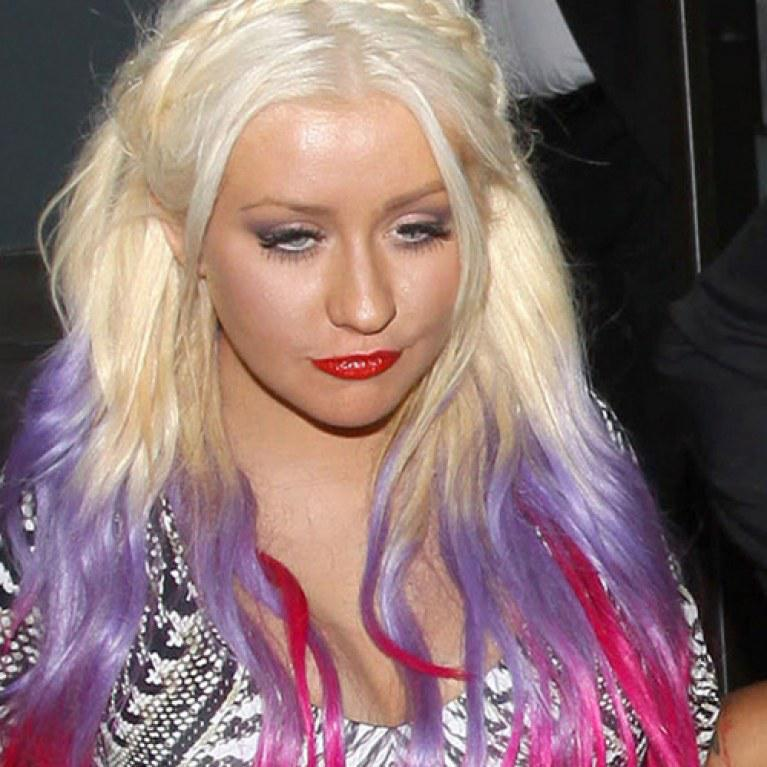Drunk: (221, 107, 455, 414)
